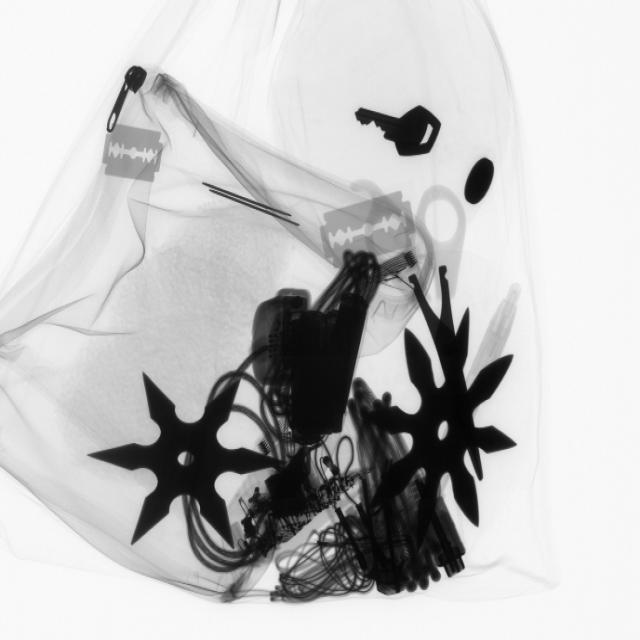BLADE: (314, 183, 424, 281), (97, 116, 175, 193)
SHURIKEN: (371, 298, 520, 547), (96, 367, 277, 551)
